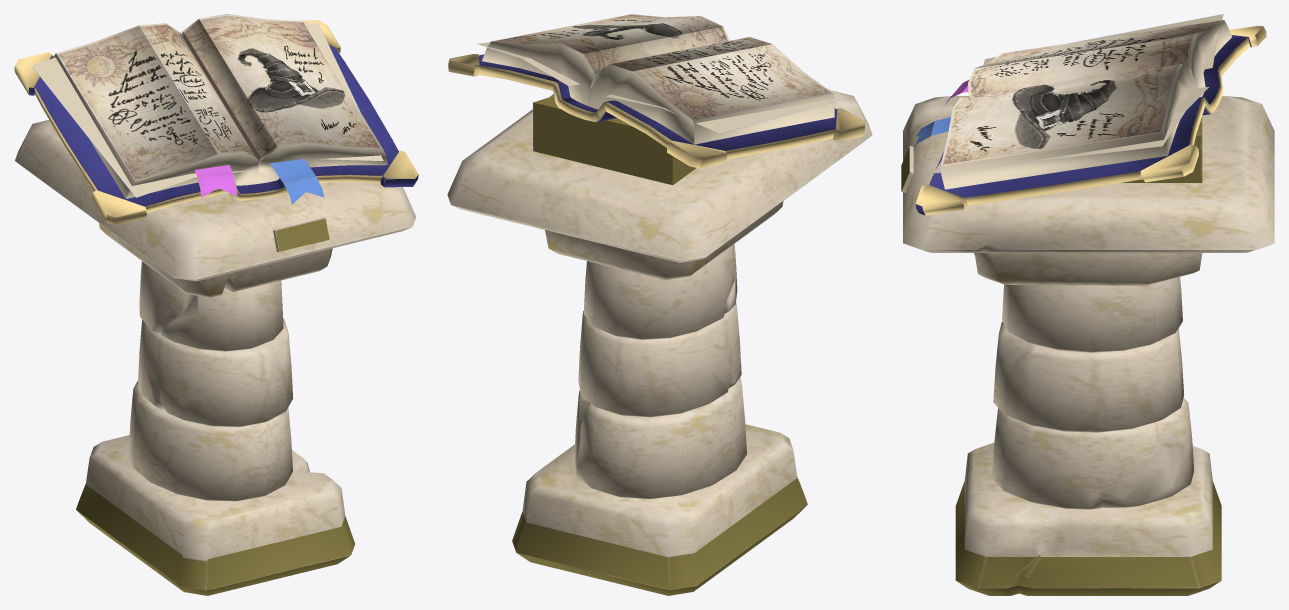
Rendered from bookTomeCompressed.glb.
3 views of the same model, side by side, from view 1: azimuth 30°, elevation 25°; view 2: azimuth 150°, elevation 25°; view 3: azimuth 270°, elevation 25° (orthographic). The views are drawn at different scales.
Parts seen in each view (by area): view 1: BookCorner; view 2: BookCorner; view 3: BookCorner.
Part boxes in pixels (left/top/right/bottom): BookCorner: left=14, top=14, right=418, bottom=595; BookCorner: left=447, top=14, right=872, bottom=595; BookCorner: left=901, top=14, right=1274, bottom=595.
Size of the model in its own units: 1 by 1.5 by 1.
2 materials, 2 textured.
